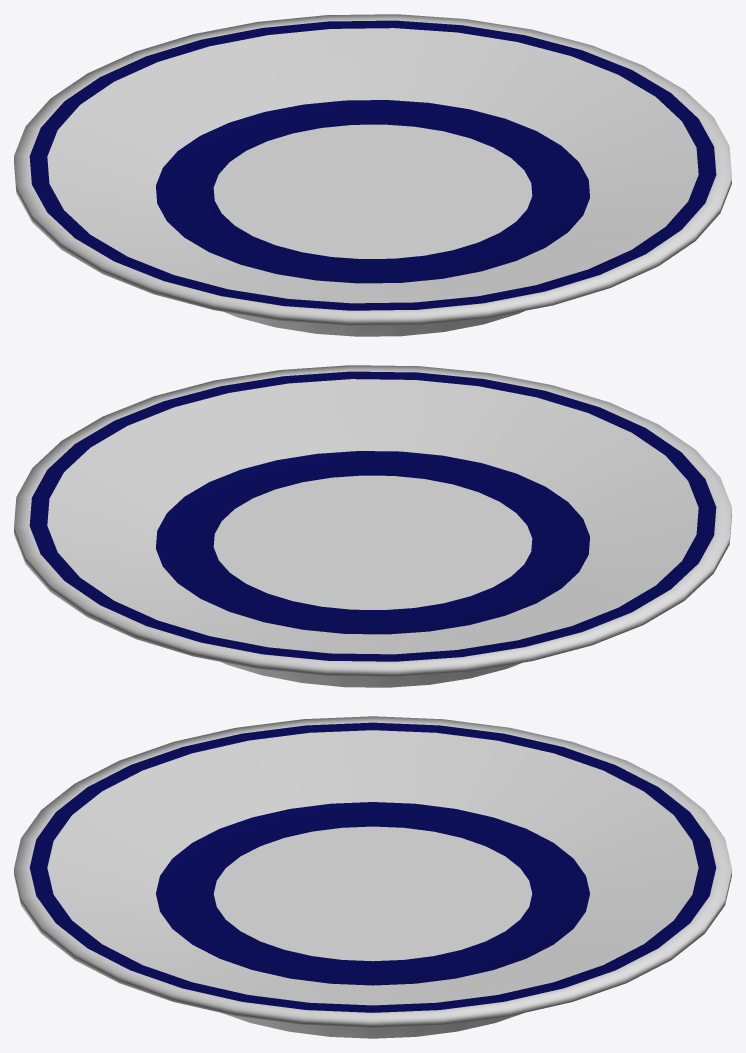
File: dish.fbx
3 renders of one model, top to bottom at view 1: azimuth 30°, elevation 25°; view 2: azimuth 150°, elevation 25°; view 3: azimuth 270°, elevation 25°, orthographic.
Parts seen in each view (by area): view 1: sara; view 2: sara; view 3: sara.
Part boxes in pixels (left/top/right/bottom): sara: left=14, top=14, right=731, bottom=336; sara: left=14, top=365, right=731, bottom=687; sara: left=14, top=716, right=731, bottom=1038.
Size of the model in its own units: 738 by 88.45 by 738.
